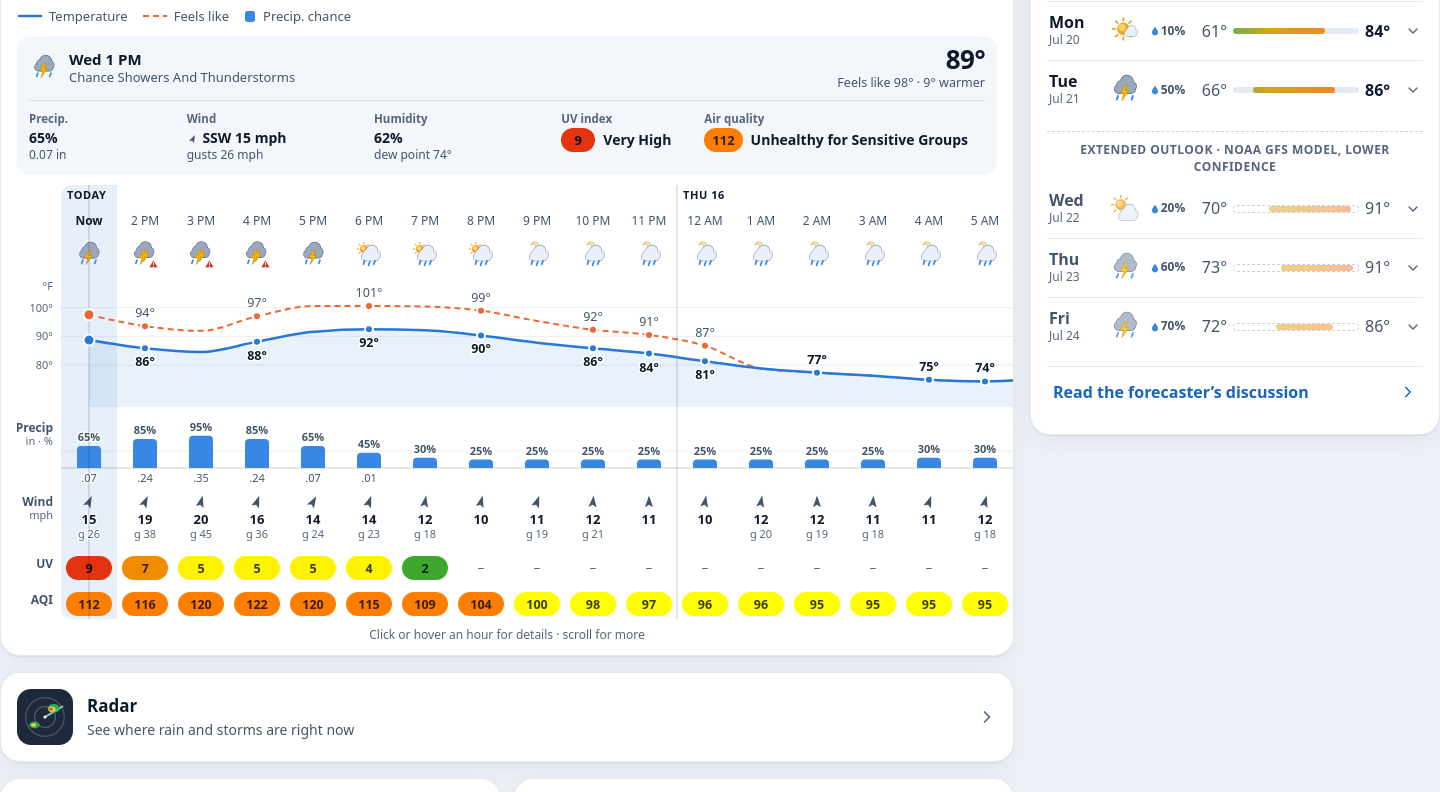
forecaster discussion › loads the discussion for the forecast office and shows it without the routing header
(page scrolled)
Click the button "Read the forecaster’s discussion": (1235, 392) x1=1047 y1=366 x2=1423 y2=418
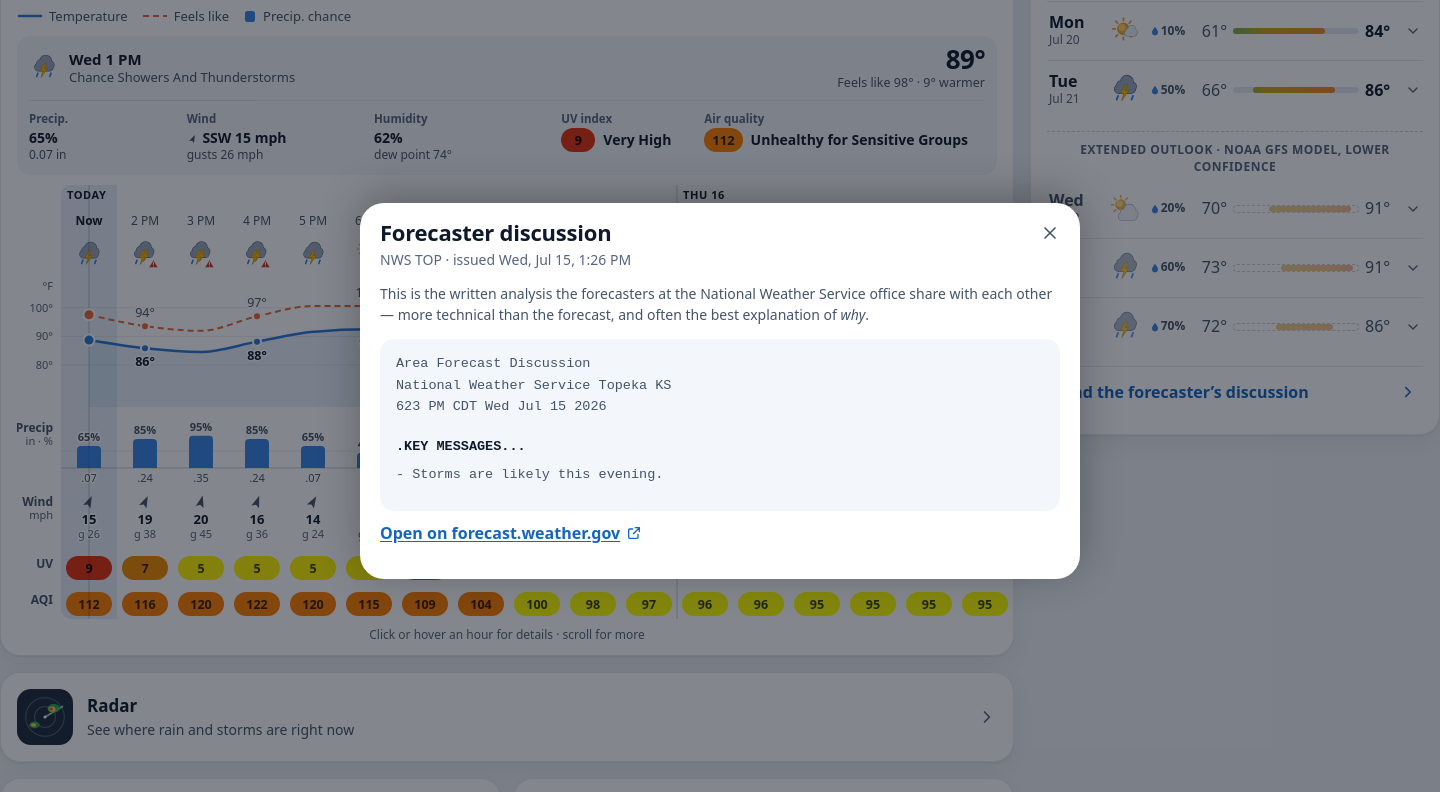
Result: the element with test id "afd-text" is shown at x1=380 y1=339 x2=1060 y2=511
Result: the link to "https://forecast.weather.gov/product.php?site=NWS&issuedby=TOP&product=AFD" is shown at x1=380 y1=522 x2=642 y2=544
